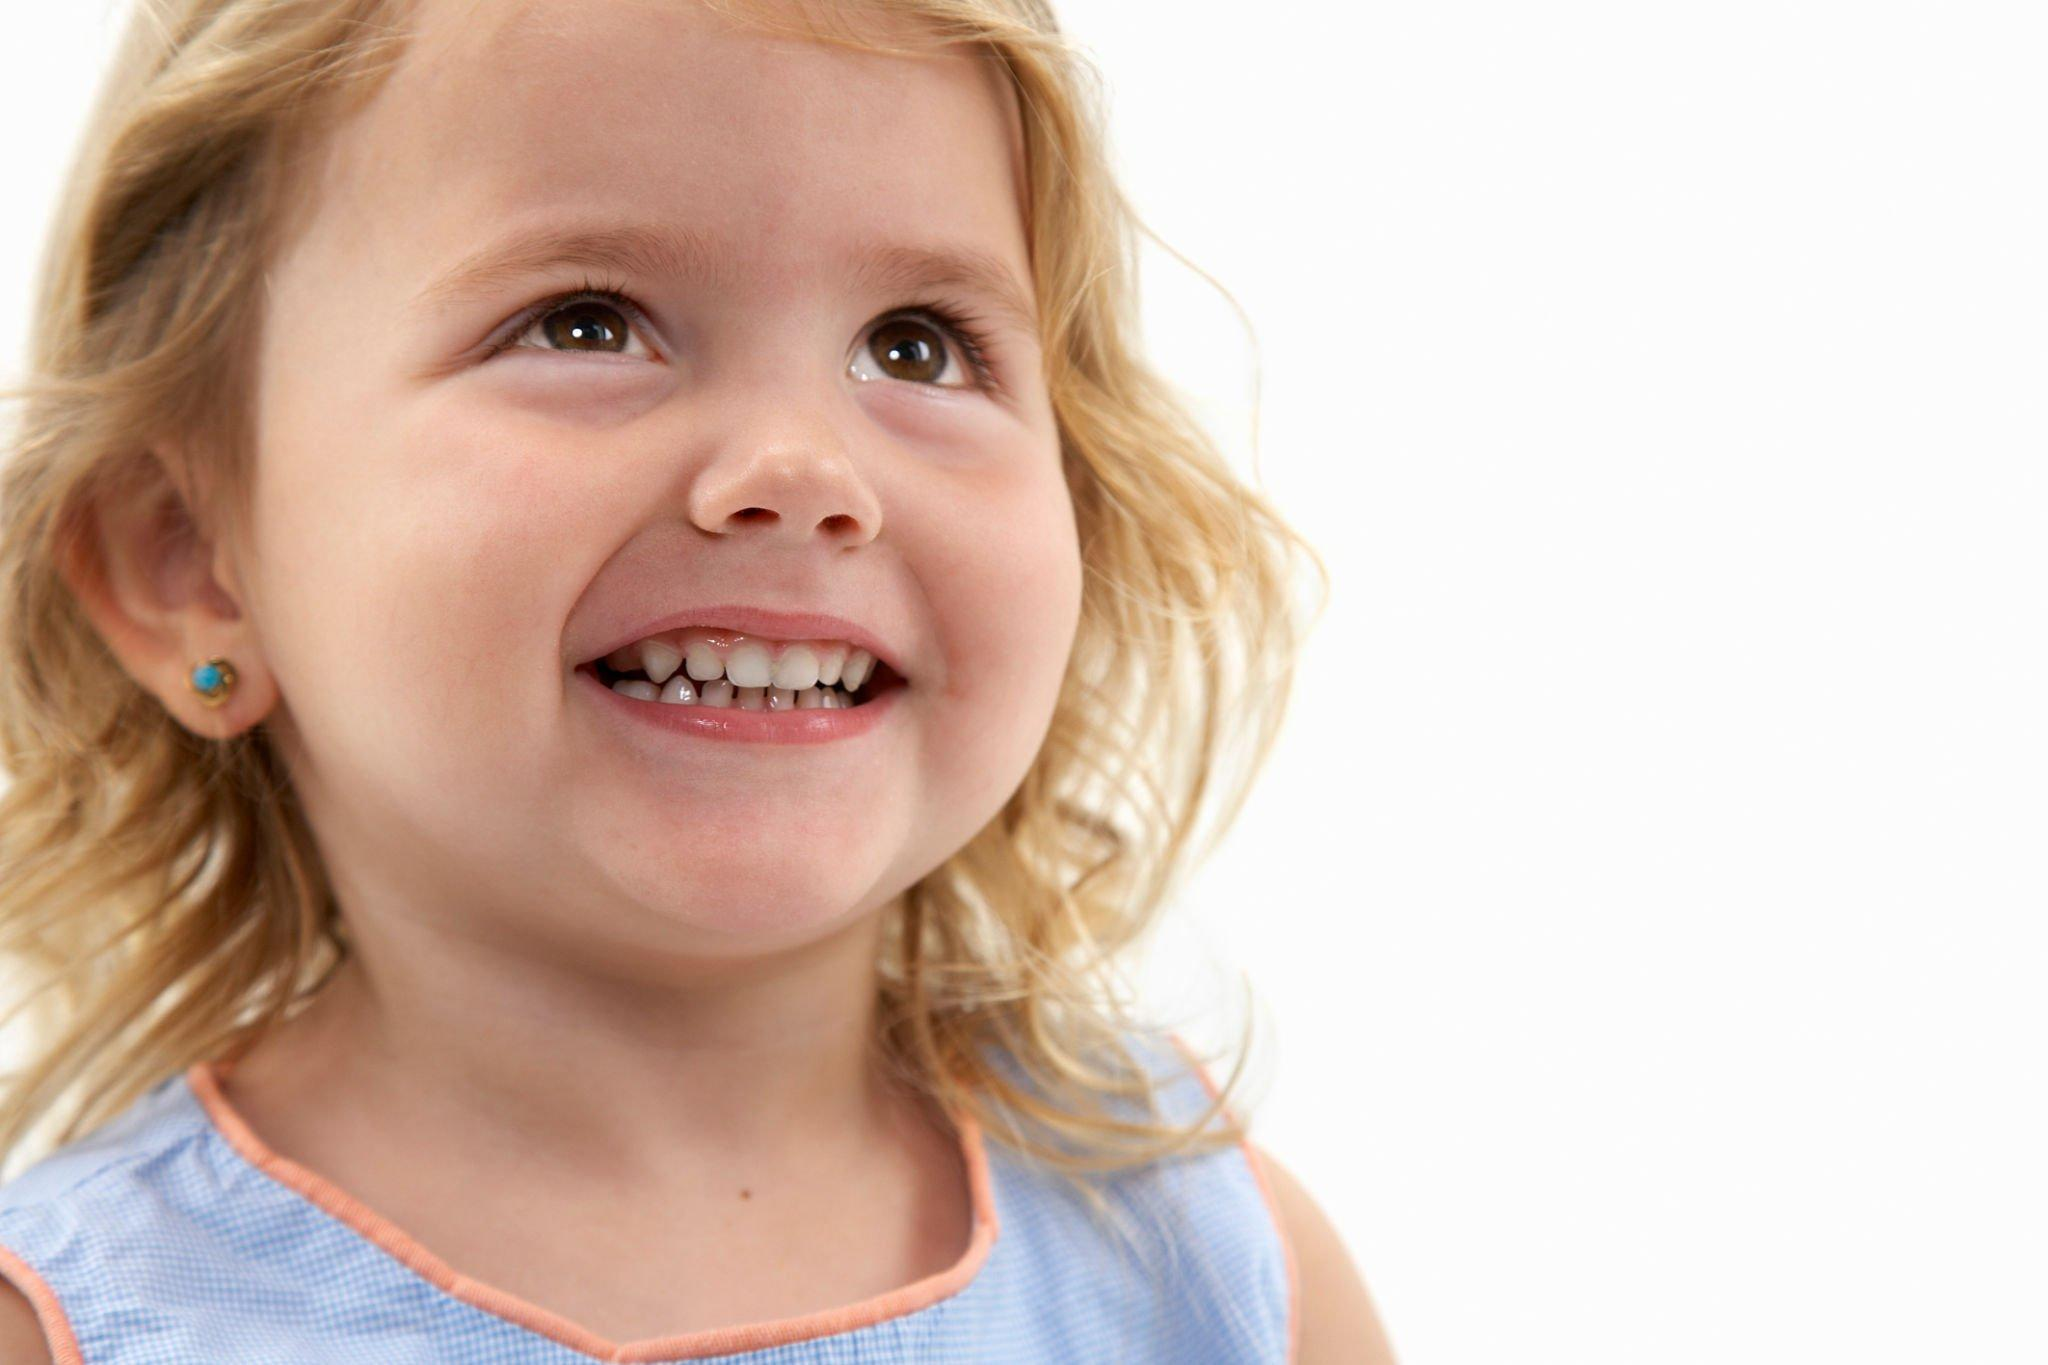Healthy: (245, 15, 1083, 963)
